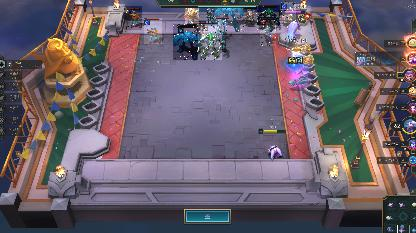1_kaisa: (206, 9, 214, 27)
1_malphite: (258, 5, 280, 25)
1_nilah: (260, 16, 276, 46)
1_seraphine: (240, 7, 262, 31), (282, 1, 296, 23)
1_volibear: (185, 8, 199, 24)
1_zeri: (144, 18, 162, 44), (124, 6, 142, 30)
2_malphite: (198, 24, 222, 60)
2_zac: (173, 24, 201, 60), (215, 7, 245, 31)
